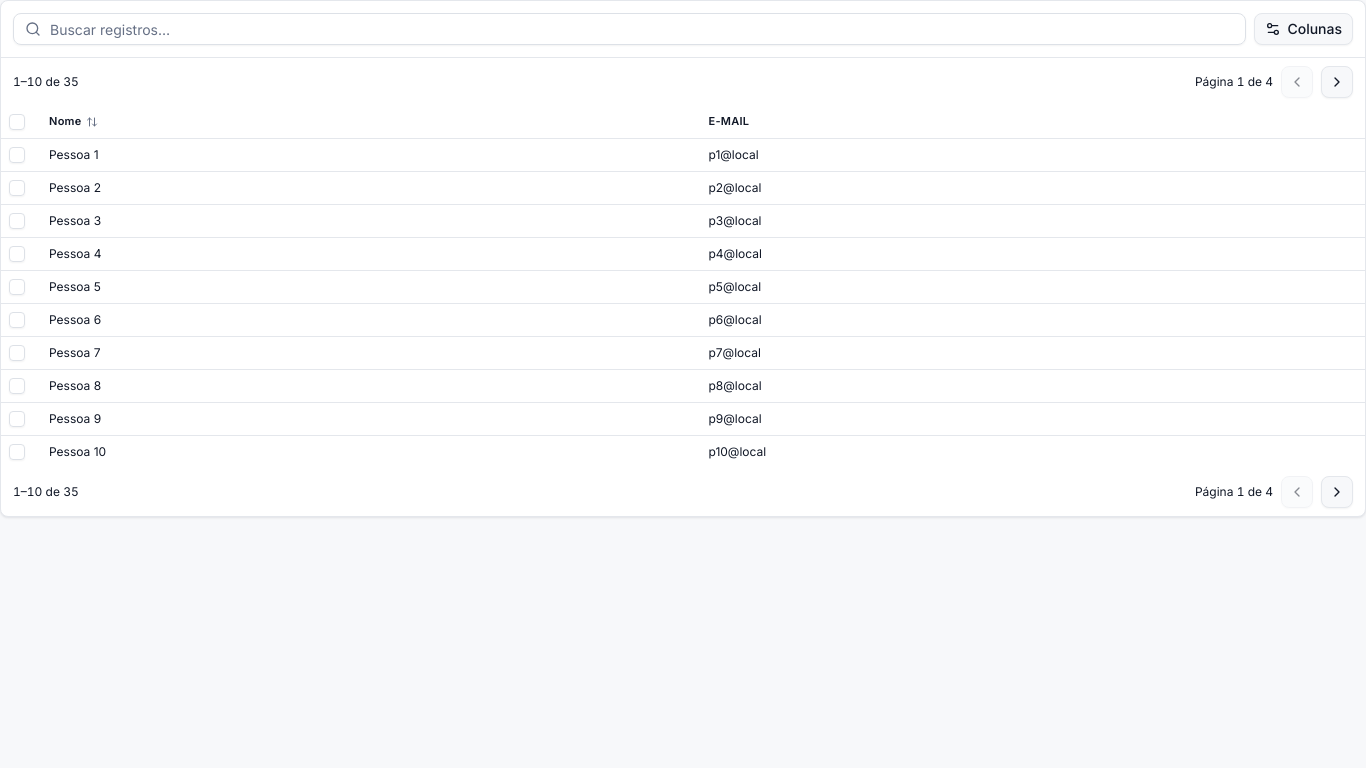
Test: mantém rascunho de colunas até Aplicar e preserva identificação
The width and height of the screenshot is (1366, 768).
Step 1. Click the button "Colunas" → (1304, 29), box [1254, 13, 1353, 45]
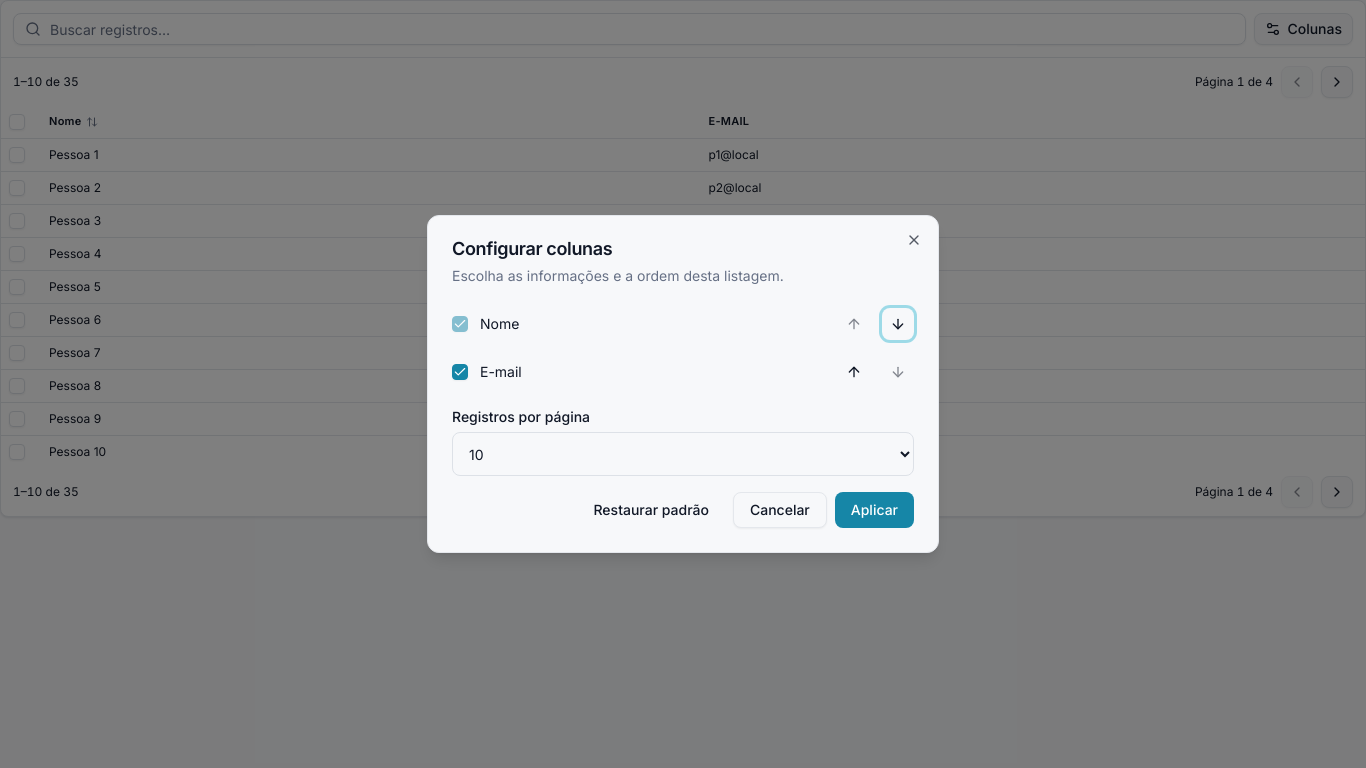
Result: the 1st checkbox named "Nome" is disabled at [452, 316, 468, 332]
Step 2. Click the 2nd checkbox named "E-mail" → (460, 372), box [452, 364, 468, 380]
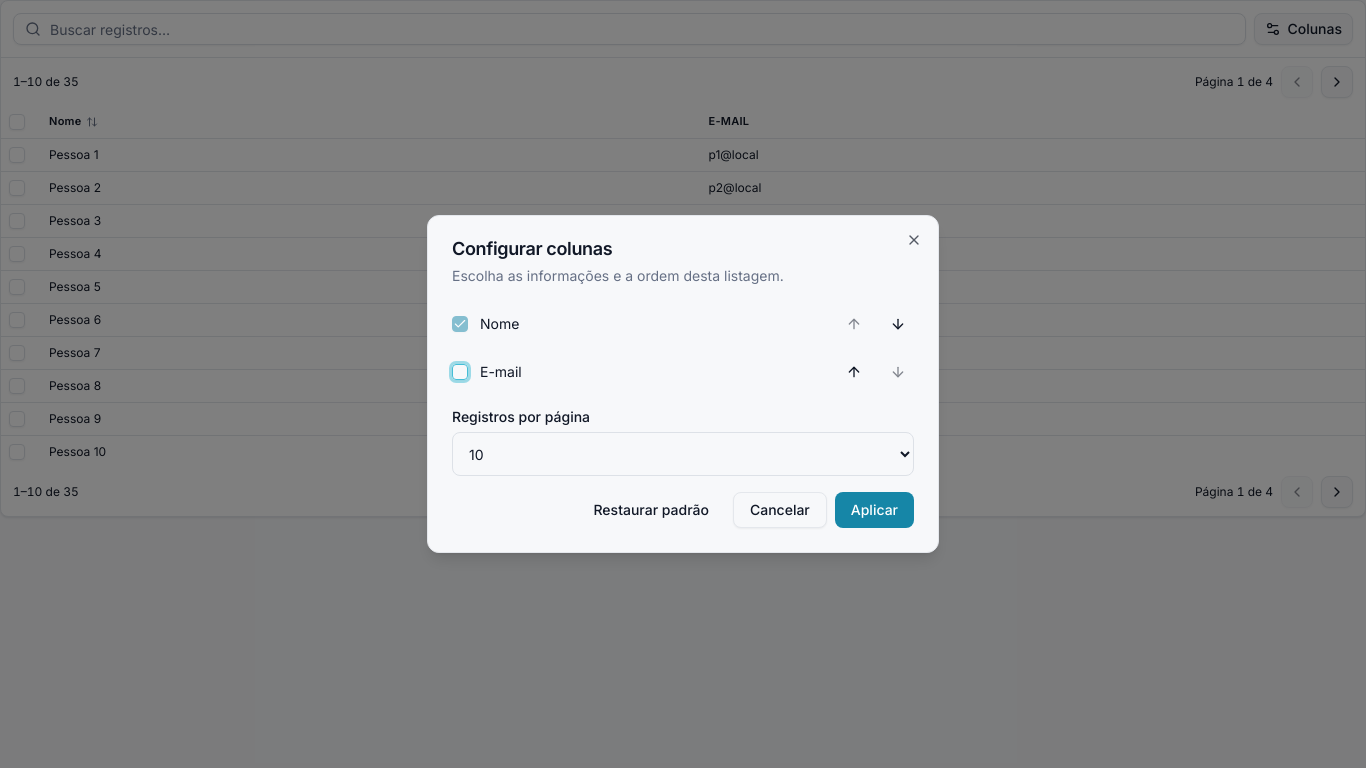
Step 3. Click the button "Cancelar" → (780, 510), box [733, 492, 827, 528]
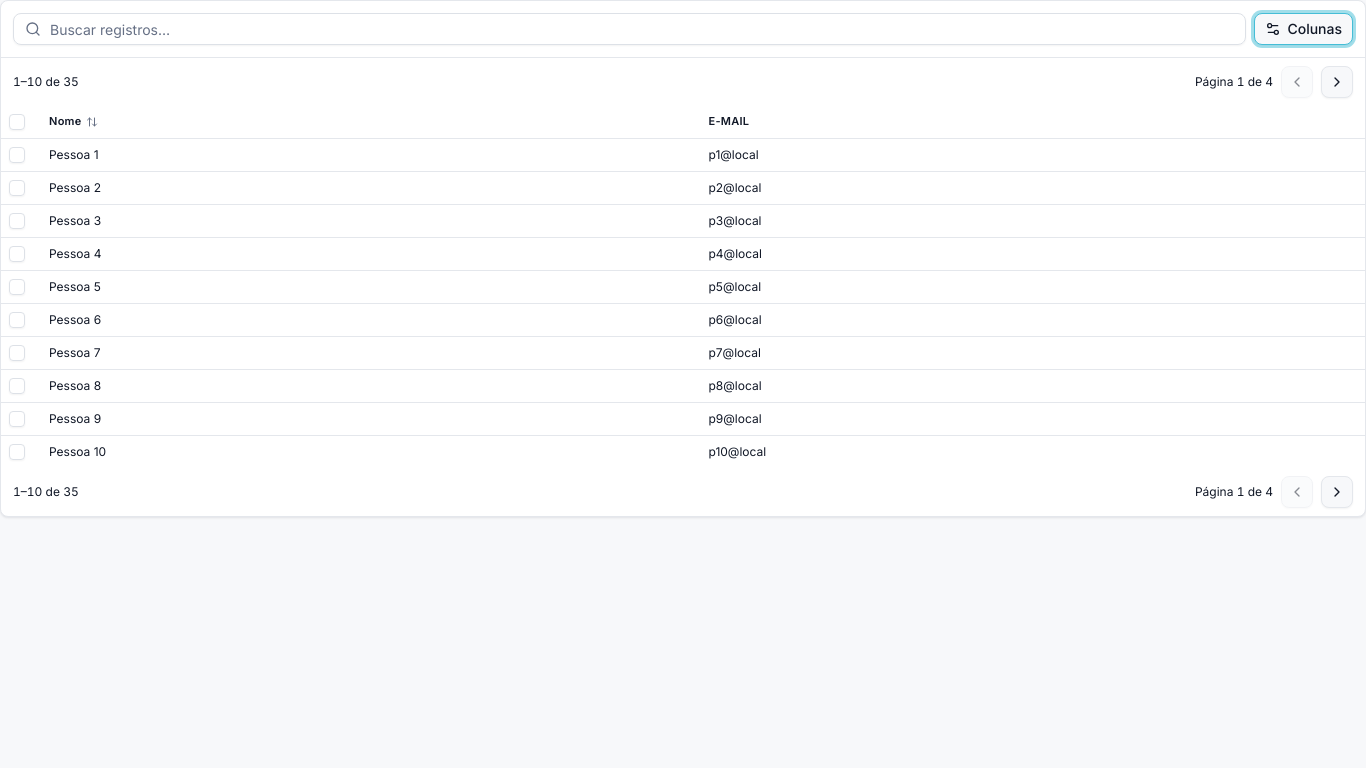
Expected: the column heading "E-mail" is shown, [700, 106, 1365, 138]
Step 4. Click the button "Colunas" → (1304, 29), box [1254, 13, 1353, 45]
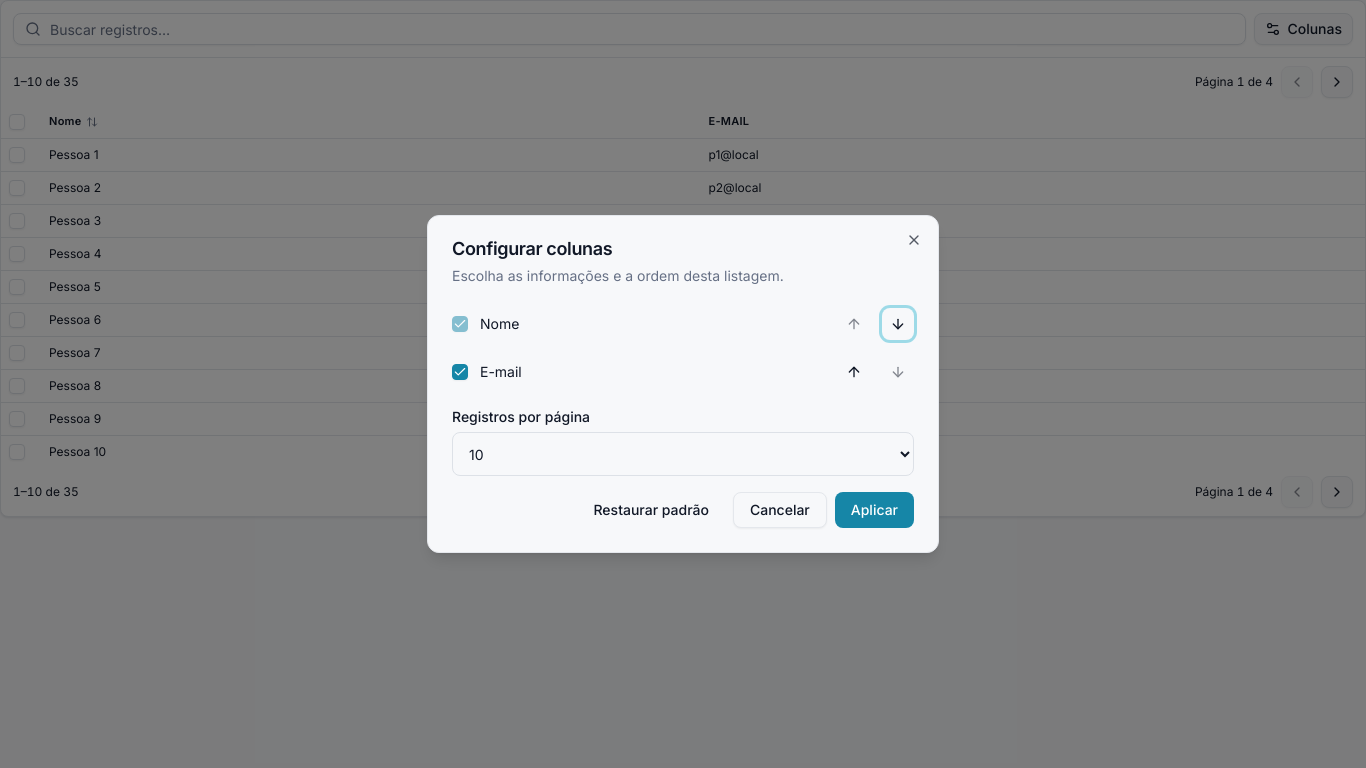
Step 5. Click the 2nd checkbox named "E-mail" → (460, 372), box [452, 364, 468, 380]
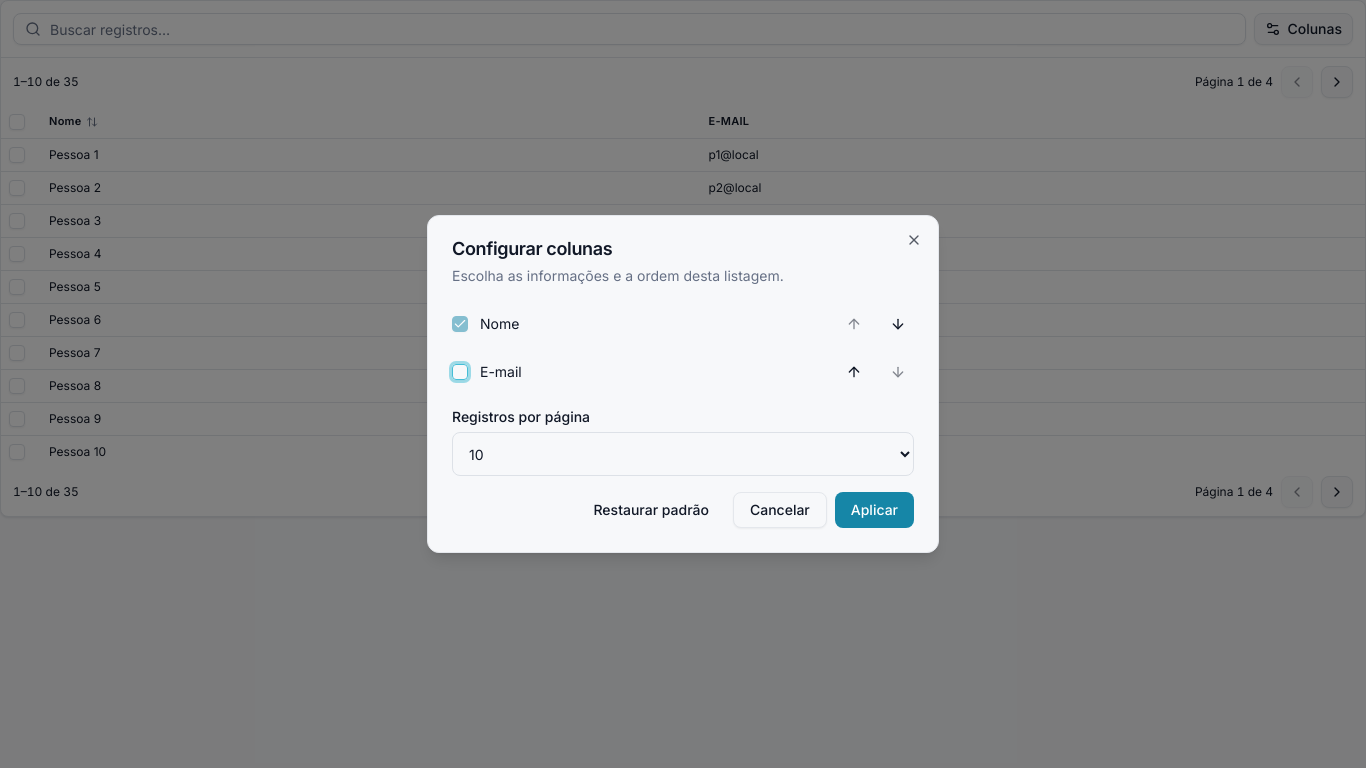
Step 6. Click the button "Aplicar" → (874, 510), box [835, 492, 914, 528]
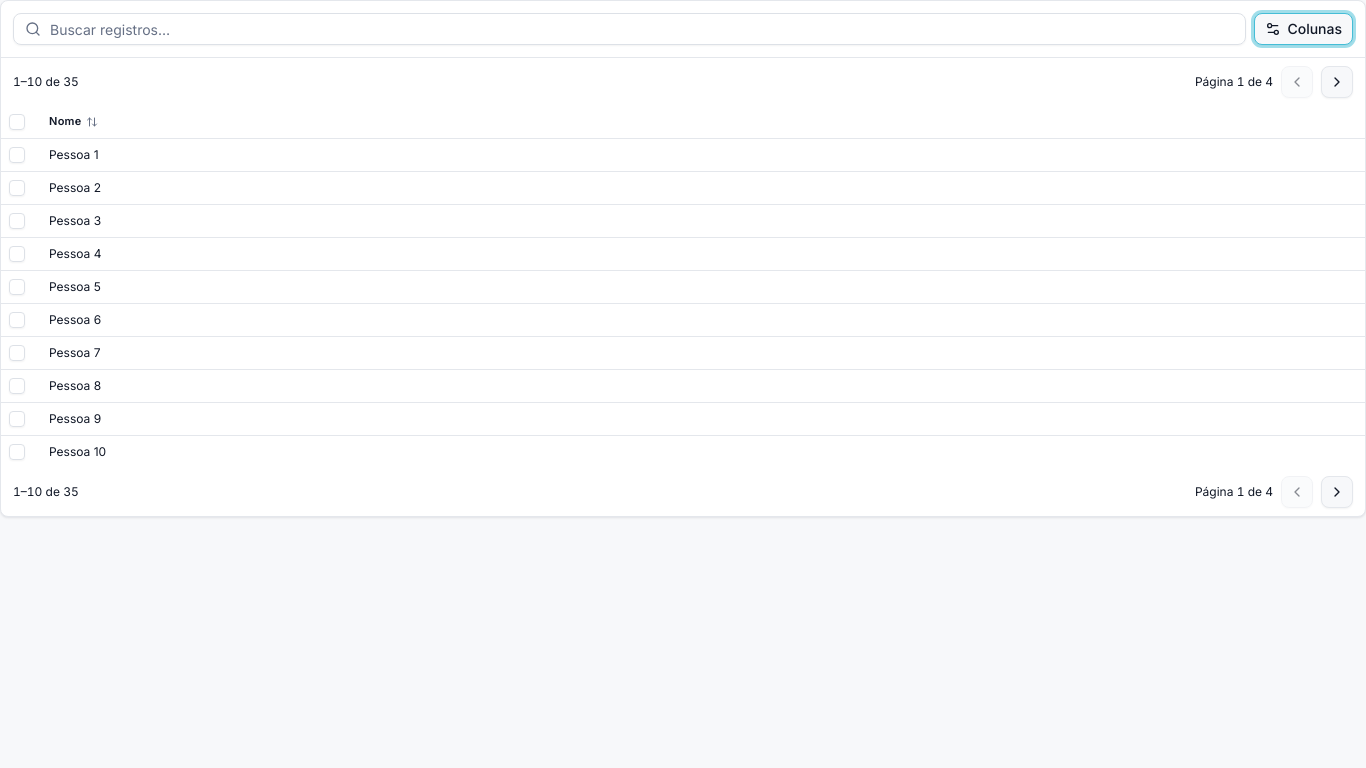
Result: the column heading "E-mail" is gone
